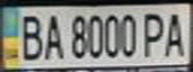0: (84, 10, 106, 60), (103, 10, 124, 60), (121, 10, 142, 58)
8: (66, 10, 87, 60)
A: (160, 8, 190, 59), (39, 10, 66, 61)
B: (15, 10, 45, 62)
P: (139, 9, 169, 58)
